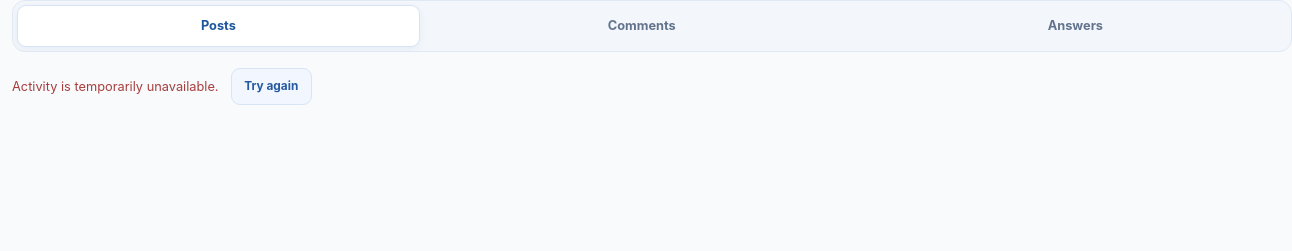
shows retry on API failure and never invents activity data
The image size is (1292, 251).
Check: the message shows "Activity is temporarily unavailable.", box [12,79,218,94]
Click the button "Try again" at (271, 86), box [230,68,312,105]
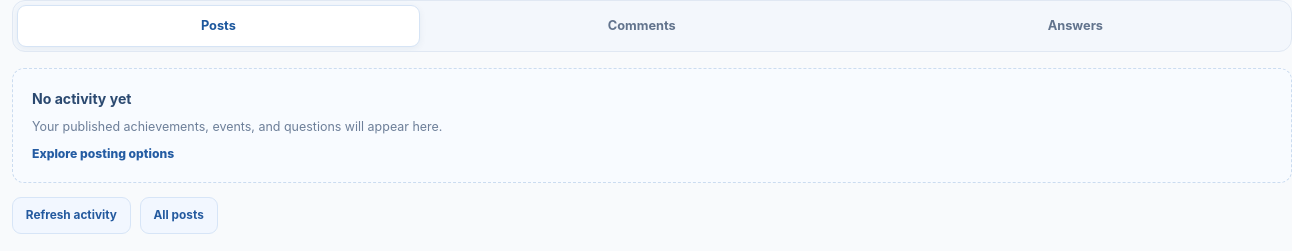
Check: the text "No activity yet" is shown, box [32,88,131,109]
